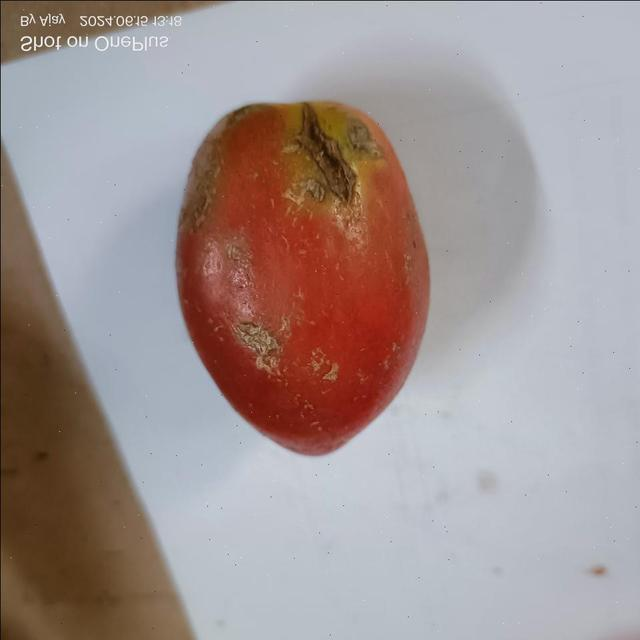Bacterial Spot Fruit: (33, 45, 215, 232)
